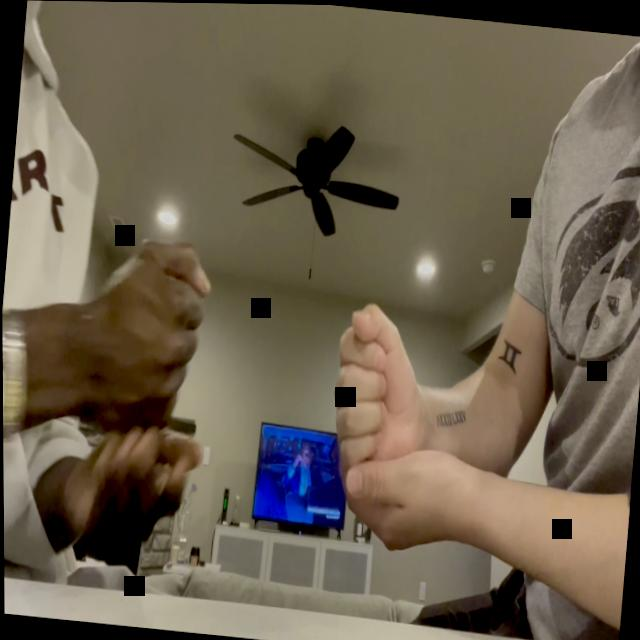Rock: (84, 224, 217, 442), (325, 299, 428, 492)
